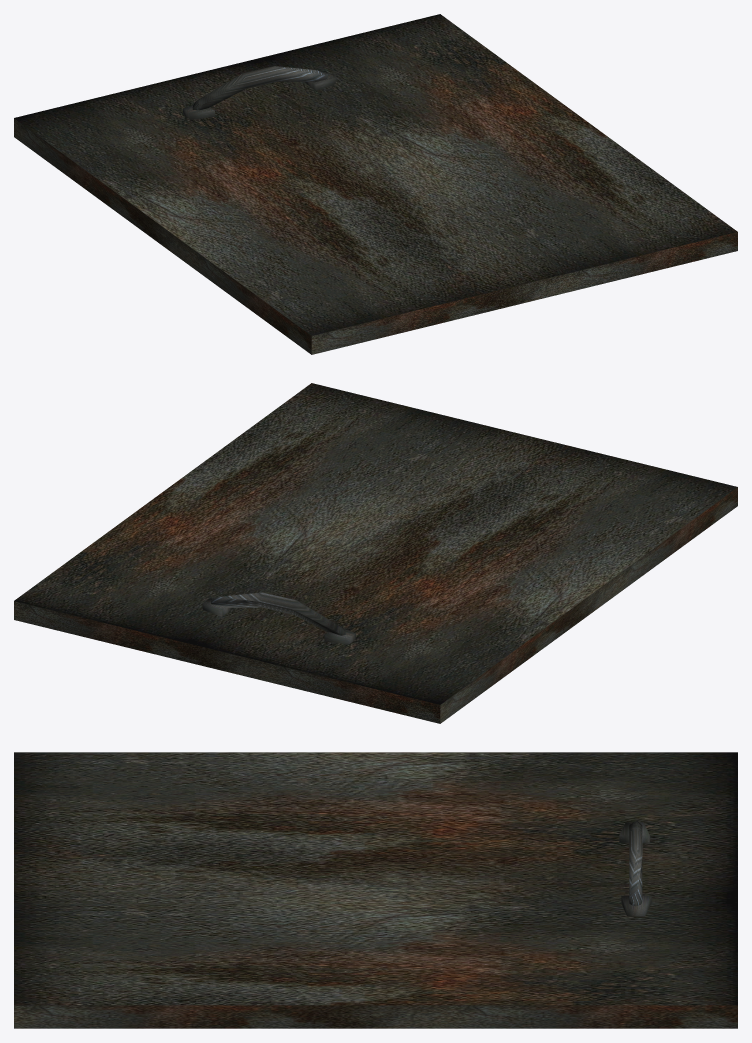
The model's file is ex_de_ship_trapdoor.obj.
3 renders of one model, top to bottom at view 1: azimuth 30°, elevation 25°; view 2: azimuth 150°, elevation 25°; view 3: azimuth 270°, elevation 25°, orthographic. The views are drawn at different scales.
Parts seen in each view (by area): view 1: nifid_6-matrix_Tri_Ex_DE_shiptrapdoor-lib, nifid_1-matrix_trapdoor_handle-lib; view 2: nifid_6-matrix_Tri_Ex_DE_shiptrapdoor-lib, nifid_1-matrix_trapdoor_handle-lib; view 3: nifid_6-matrix_Tri_Ex_DE_shiptrapdoor-lib, nifid_1-matrix_trapdoor_handle-lib.
Boxes of the visible parts, x1,y1,x2,y2 form: nifid_6-matrix_Tri_Ex_DE_shiptrapdoor-lib: [14, 14, 737, 354]; nifid_1-matrix_trapdoor_handle-lib: [183, 66, 335, 119]; nifid_6-matrix_Tri_Ex_DE_shiptrapdoor-lib: [14, 383, 737, 723]; nifid_1-matrix_trapdoor_handle-lib: [202, 592, 355, 644]; nifid_6-matrix_Tri_Ex_DE_shiptrapdoor-lib: [14, 752, 737, 1028]; nifid_1-matrix_trapdoor_handle-lib: [619, 820, 651, 916].
Size of the model in its own units: 2.44 by 0.2639 by 2.95.
